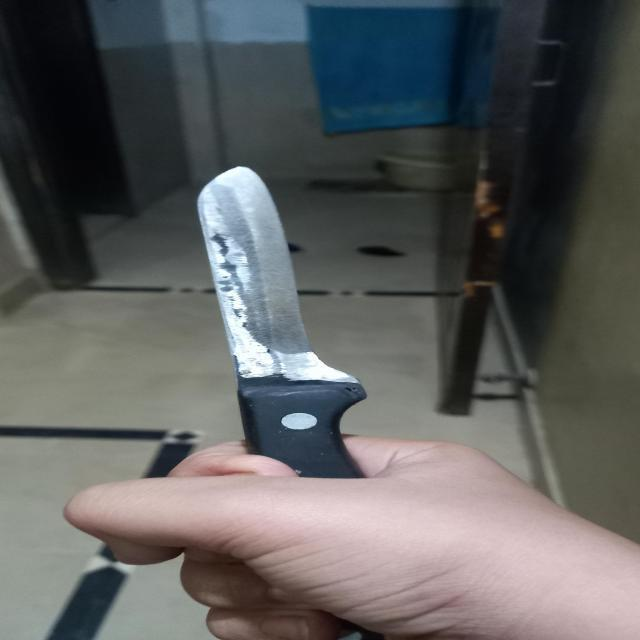knife: (160, 163, 398, 521)
